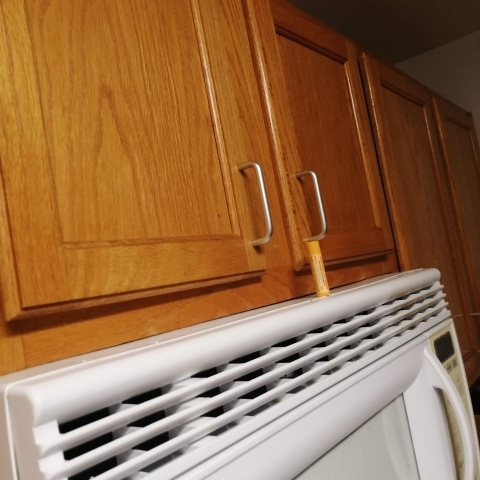chapstick: (306, 240, 331, 298)
